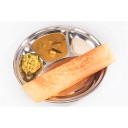dosa: (18, 44, 116, 103)
